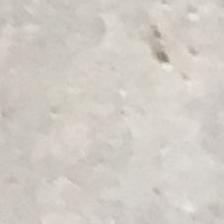Non_Crack: (9, 70, 214, 203)
